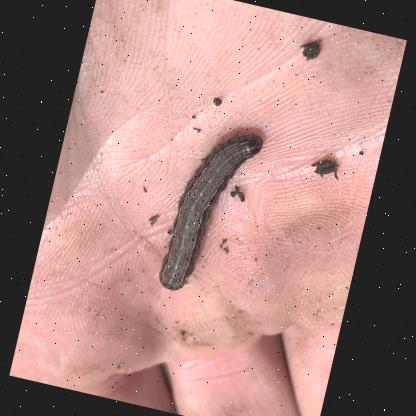Fall Armyworm Larvae: (149, 111, 272, 310)
